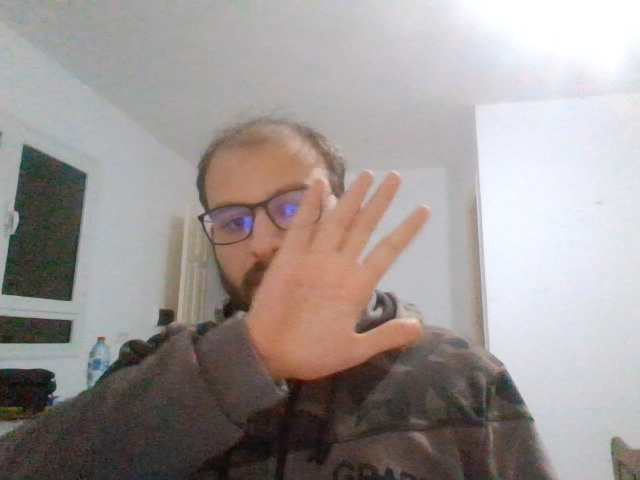Hello: (275, 173, 428, 370)
